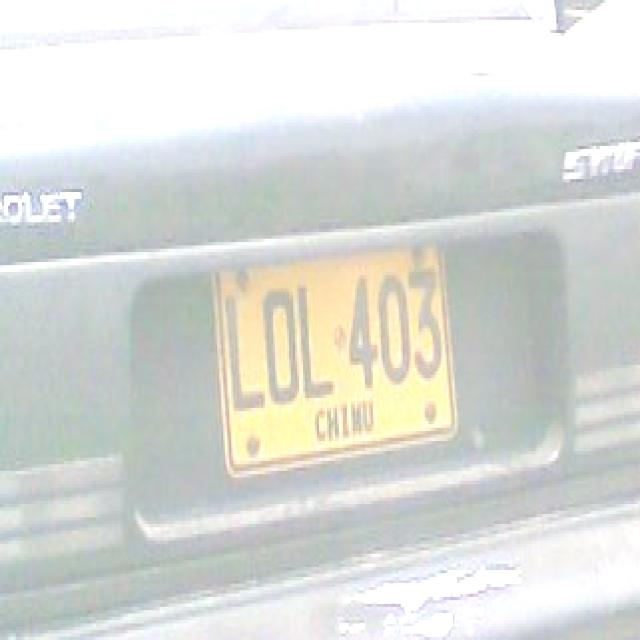placa: (204, 232, 472, 484)
